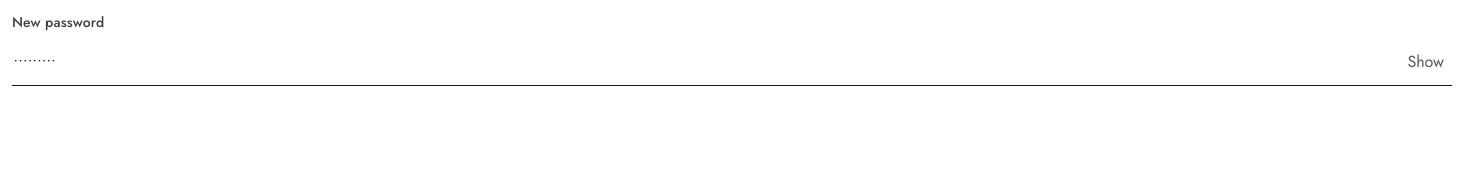
Test case: shared components › shows and hides password input text on request
This screenshot has width=1464, height=172.
Click the button with aria-label "Show password".
click(1426, 62)  # box [1400,38,1452,86]
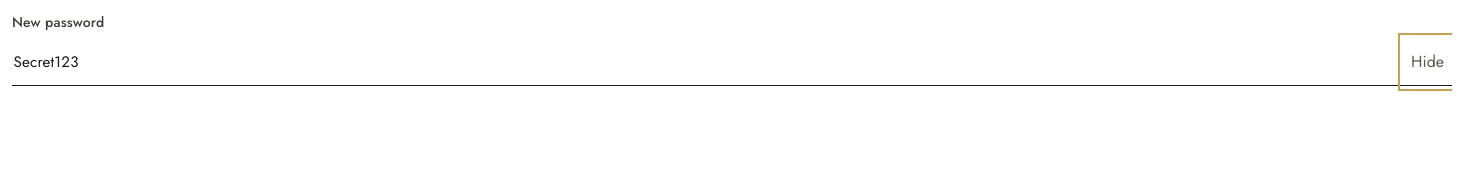
Result: the field labelled "New password" shows its text at [12,38,1452,86]
Click the button with aria-label "Hide password".
click(1428, 62)  # box [1403,38,1452,86]
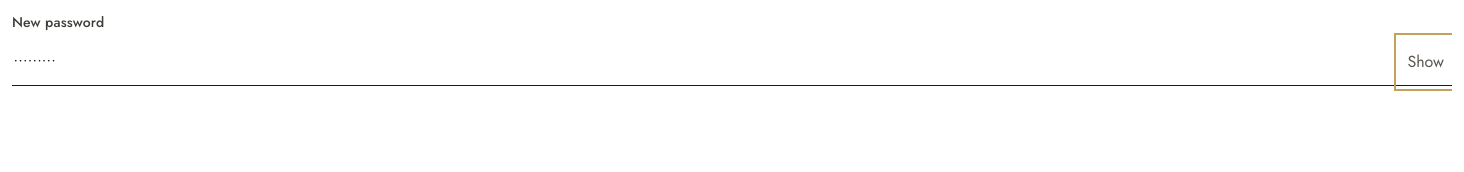
Result: the password field labelled "New password" hides its text at [12,38,1452,86]
